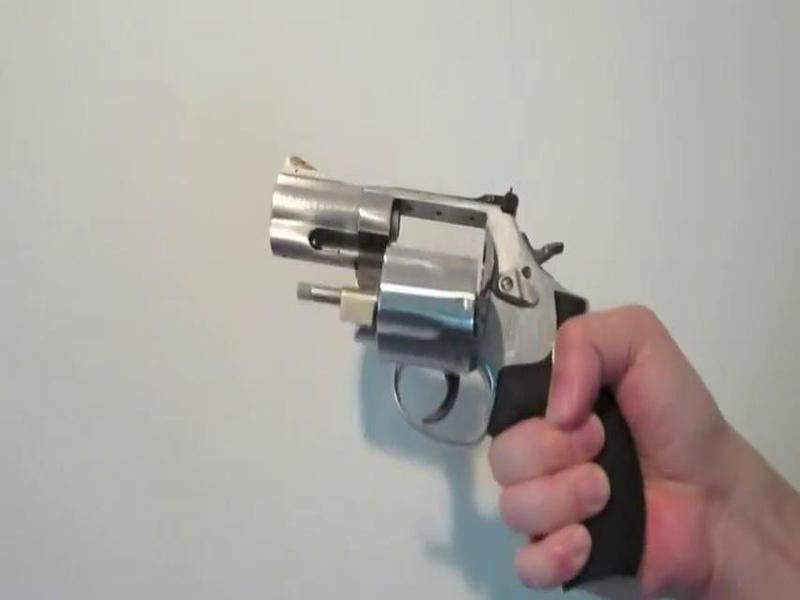Revolver: (259, 109, 691, 582)
